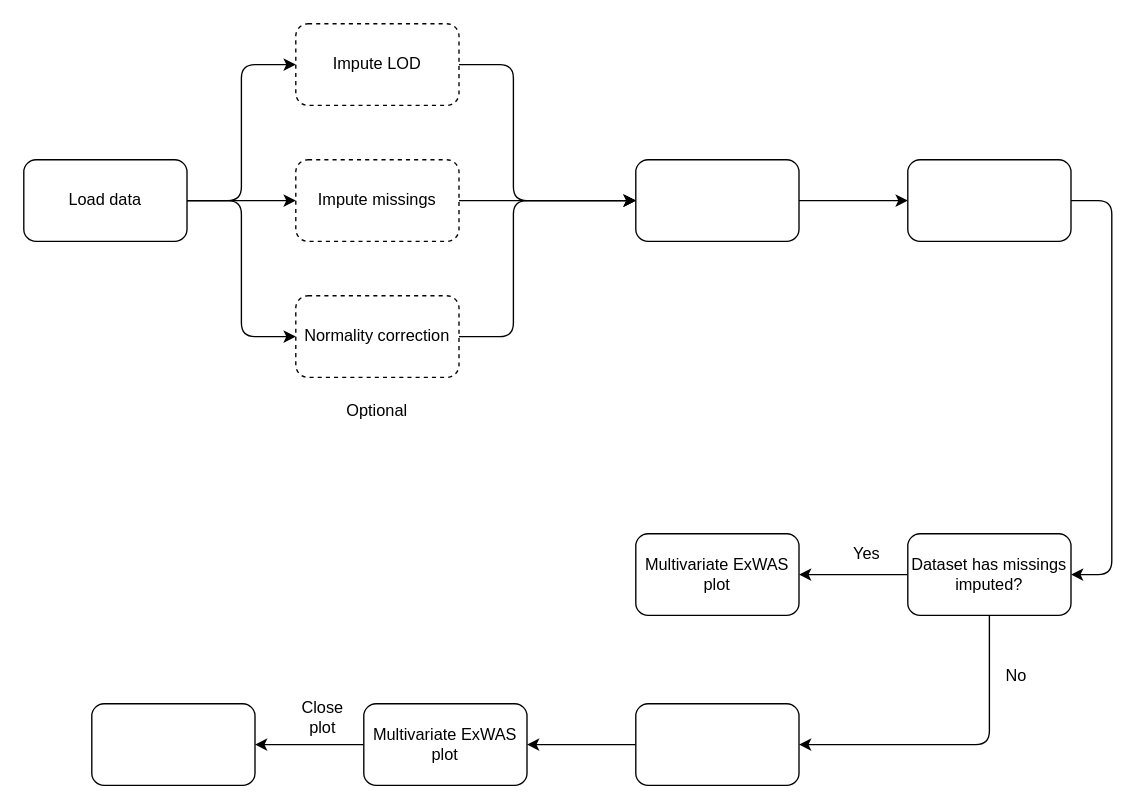
This 1146x809 diagram has some shape labels left out. Each missing label, with the box of its shape:
Dataset gets imputed with mice: (634, 702, 799, 785)
Imputed dataset gets removed from the environment: (90, 702, 255, 785)
Multivariate ExWAS: (634, 158, 799, 241)
Select parameters and run model: (906, 158, 1071, 241)
